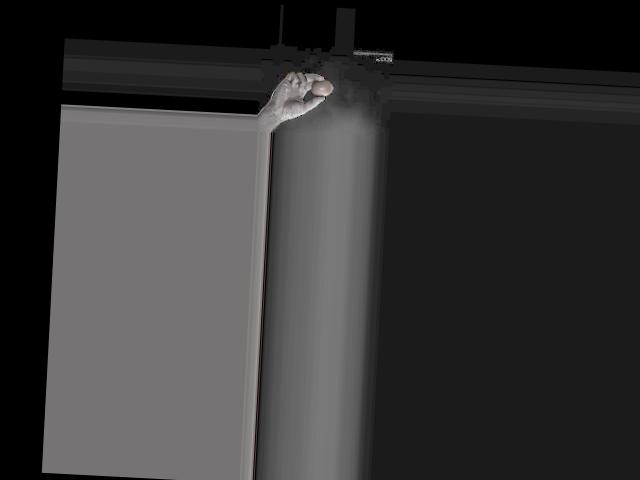egg: (309, 79, 332, 97)
